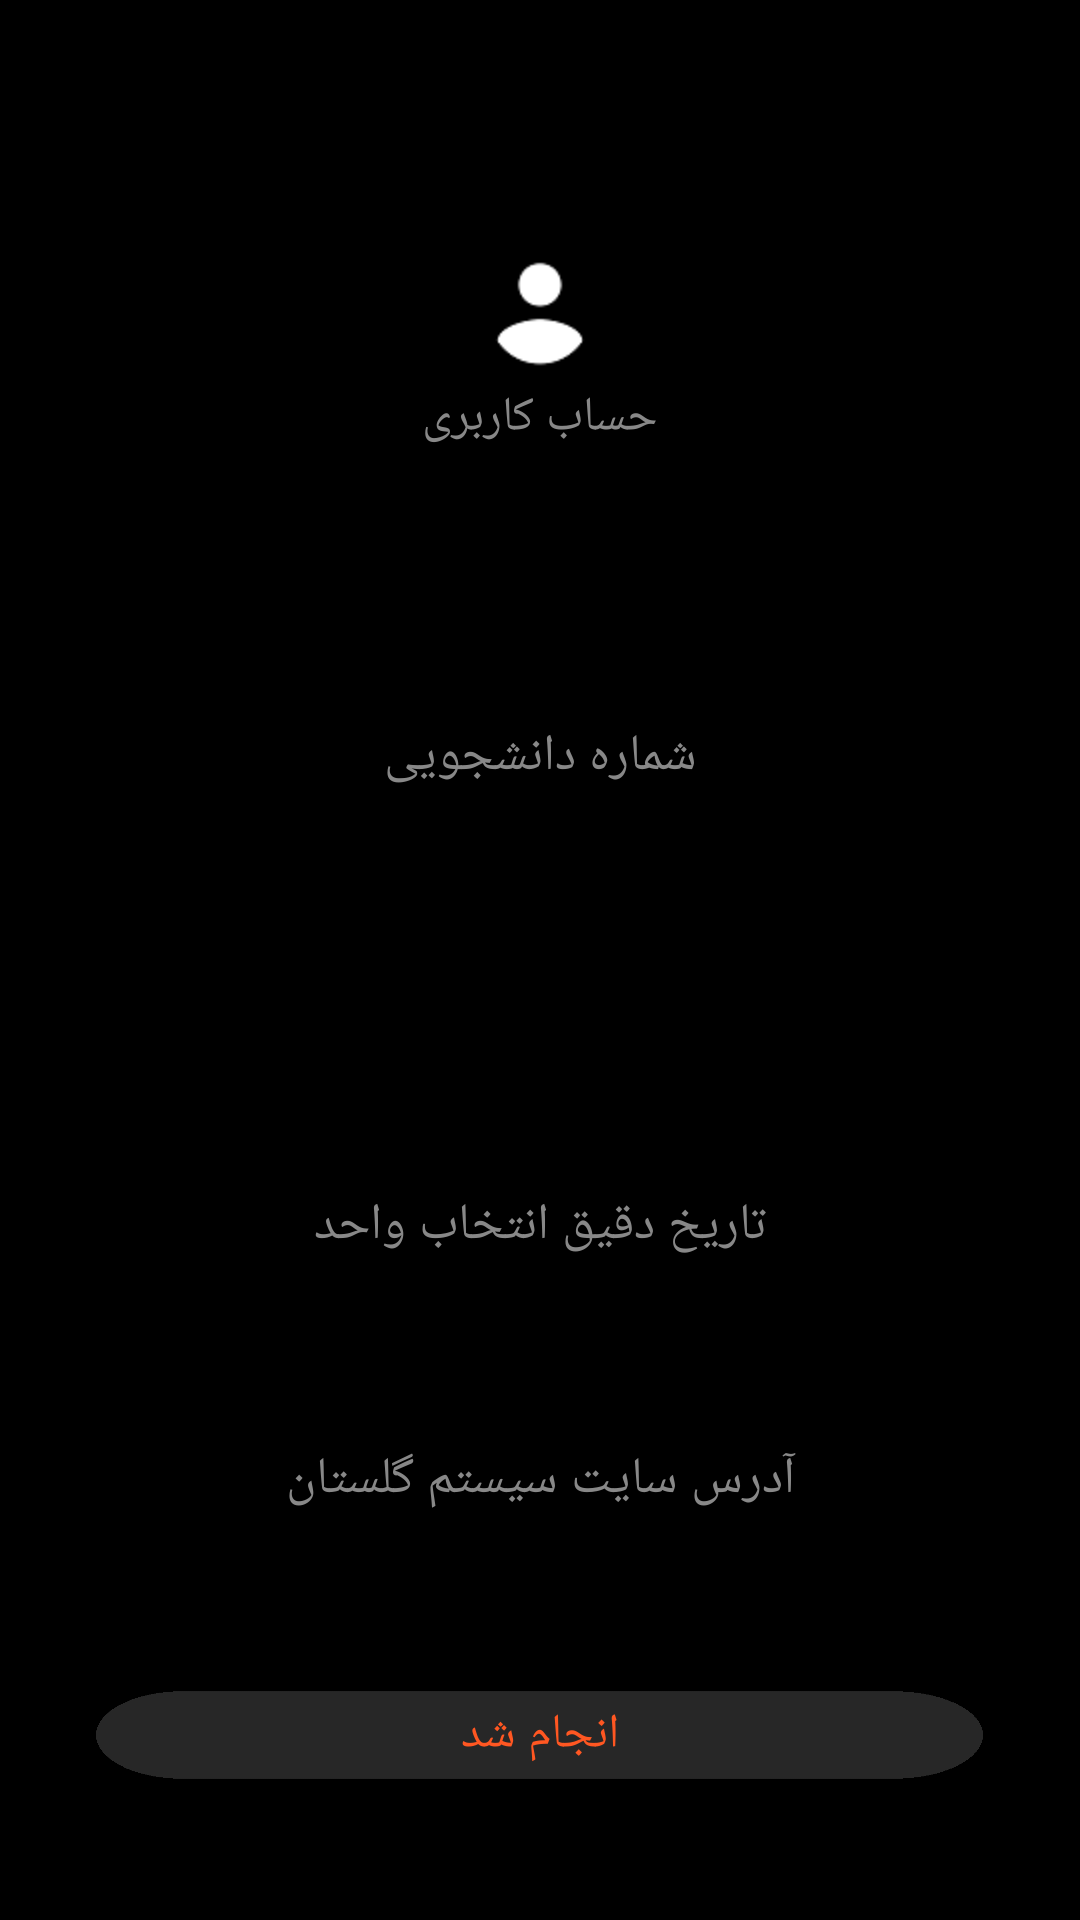

Named icons in this screenshot (1080 x 1920) and their bounding boxes, (x1, y1, x2, y2):
accounticon: (497, 262, 583, 366)
